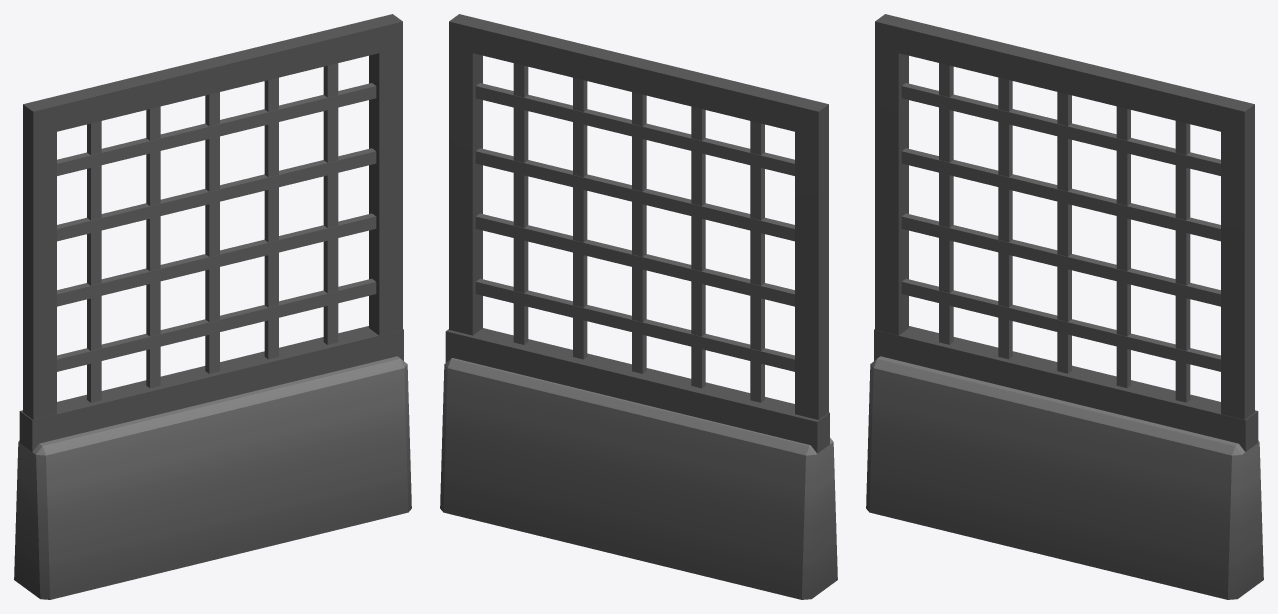
Rendered from Fence_1_F_5.fbx.
The picture shows the model from 3 angles, left to right: view 1: azimuth 30°, elevation 25°; view 2: azimuth 150°, elevation 25°; view 3: azimuth 330°, elevation 25°; orthographic projection.
Visible parts, largest first — view 1: Fence_1_F_5; view 2: Fence_1_F_5; view 3: Fence_1_F_5.
Boxes of the visible parts, <box> form: Fence_1_F_5: <box>14,14,411,599</box>; Fence_1_F_5: <box>440,14,837,599</box>; Fence_1_F_5: <box>866,14,1263,599</box>.
Bounding box in the file's own units: 200 × 248 × 30.52.
